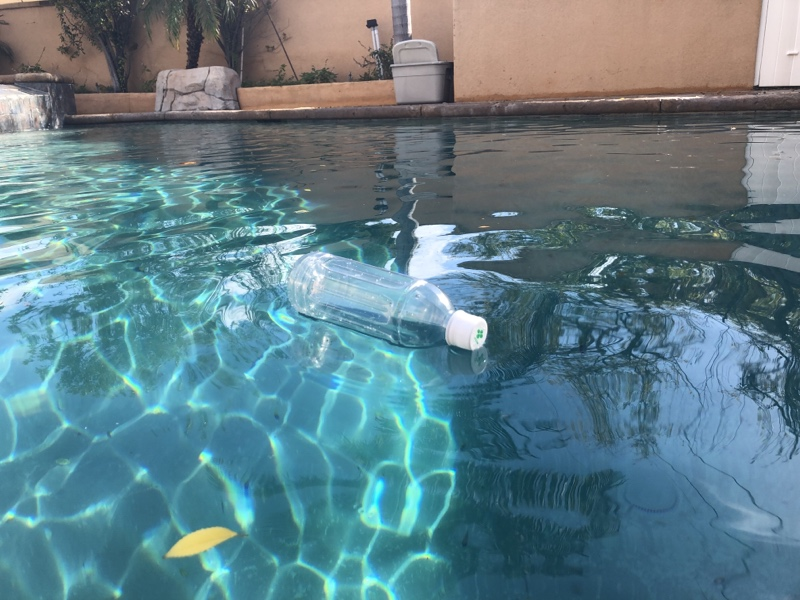Plastic Bottle: (284, 250, 487, 355)
